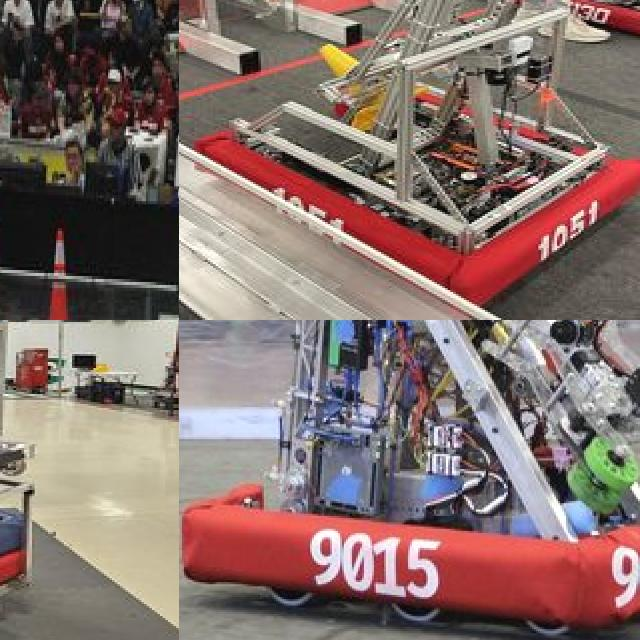FRC-Robots: (179, 320, 640, 637), (219, 0, 640, 289), (0, 320, 75, 537), (139, 16, 179, 320)
